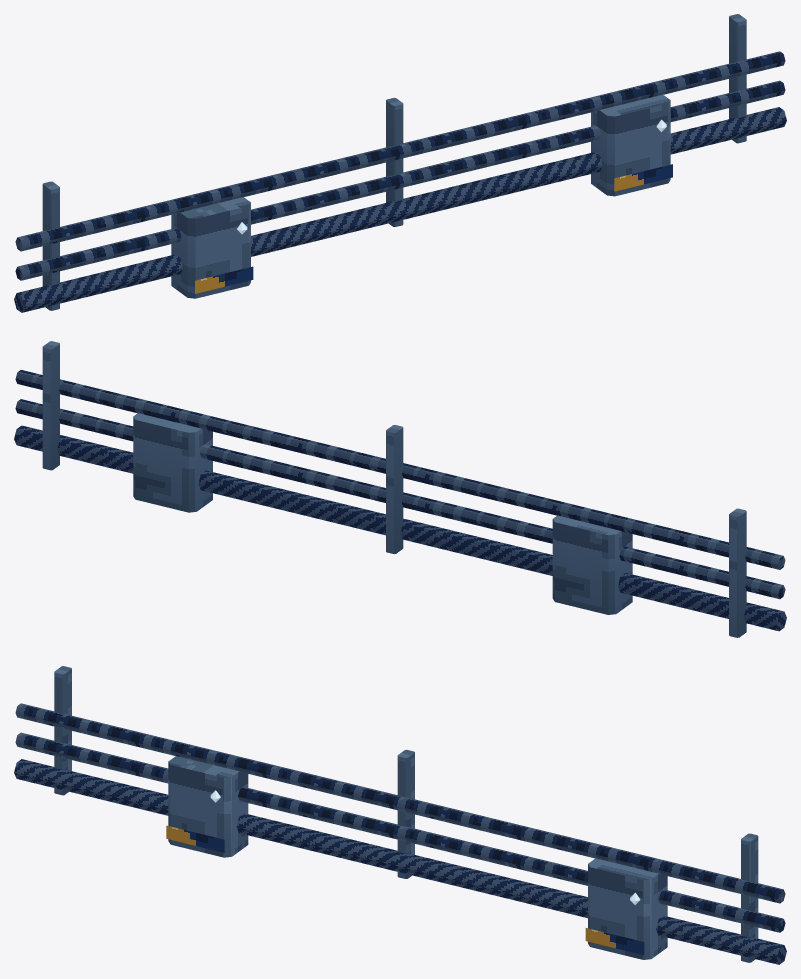
The model's file is cytech.conduit.glb.
3 views of the same model, one above another, from view 1: azimuth 30°, elevation 25°; view 2: azimuth 150°, elevation 25°; view 3: azimuth 330°, elevation 25° (orthographic).
Visible parts, largest first — view 1: kit_pipes, kit_card_bands; view 2: kit_pipes; view 3: kit_pipes, kit_card_bands.
Boxes of the visible parts, <box> form: kit_pipes: <box>14,14,786,312</box>; kit_card_bands: <box>195,164,672,293</box>; kit_pipes: <box>14,341,786,637</box>; kit_pipes: <box>14,666,786,964</box>; kit_card_bands: <box>166,825,644,955</box>.
Bounding box in the file's own units: 6 × 0.98 × 0.3546.
6 materials, 6 textured.
